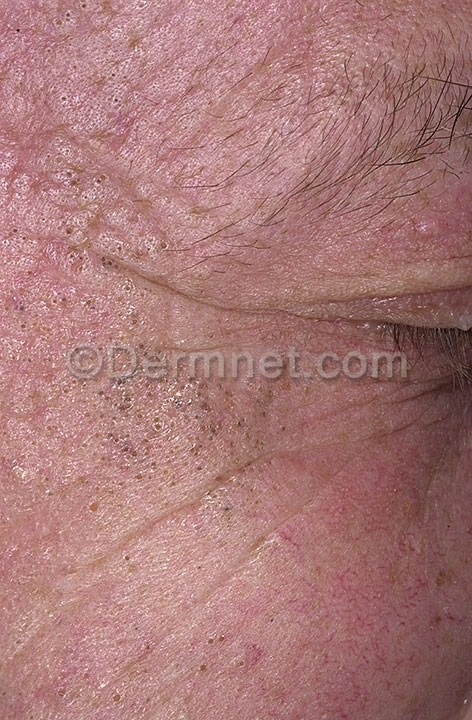Melasma: (0, 0, 179, 336), (48, 374, 289, 544)
